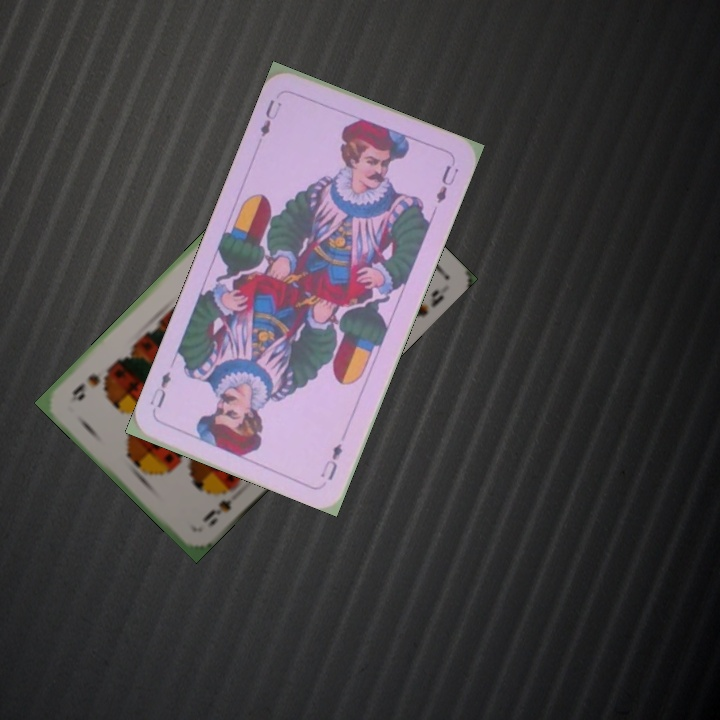EU: (316, 439, 346, 483), (256, 95, 284, 140)
S9: (198, 483, 239, 529)
